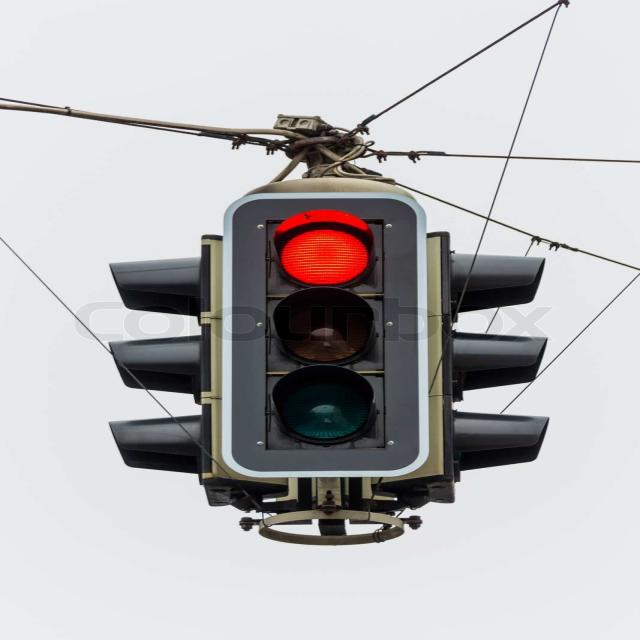red: (266, 218, 392, 294)
